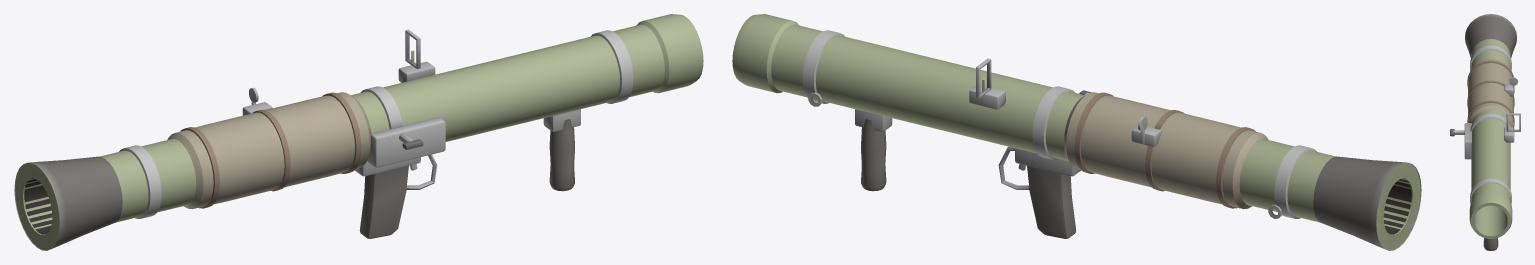
The model's file is rocket-launcher.glb.
3 renders of one model, left to right at view 1: azimuth 30°, elevation 25°; view 2: azimuth 150°, elevation 25°; view 3: azimuth 270°, elevation 25°, orthographic. The views are drawn at different scales.
Visible parts, largest first — view 1: Body_lod0; view 2: Body_lod0; view 3: Body_lod0.
Part boxes in pixels (x1,y1,x2,y2): Body_lod0: (14, 14, 703, 250); Body_lod0: (732, 14, 1421, 250); Body_lod0: (1450, 14, 1520, 250).
Size of what is drawn, in the model's own units: 1.1 by 0.2798 by 0.18.
